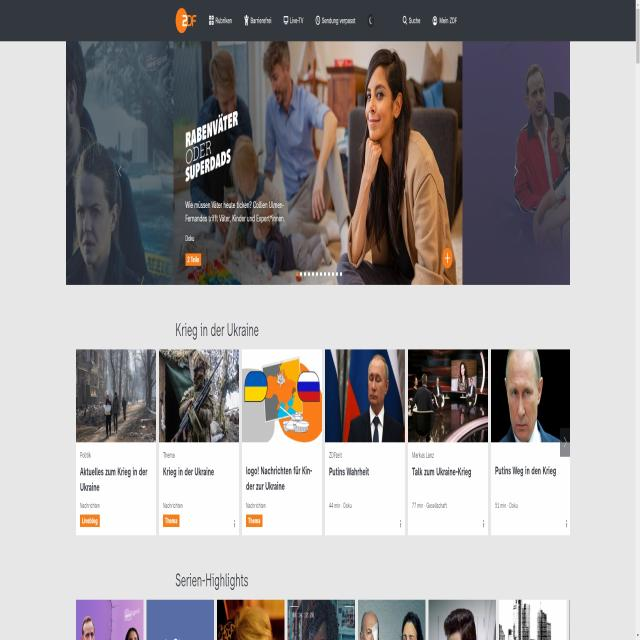menu-bar: (400, 9, 460, 32)
